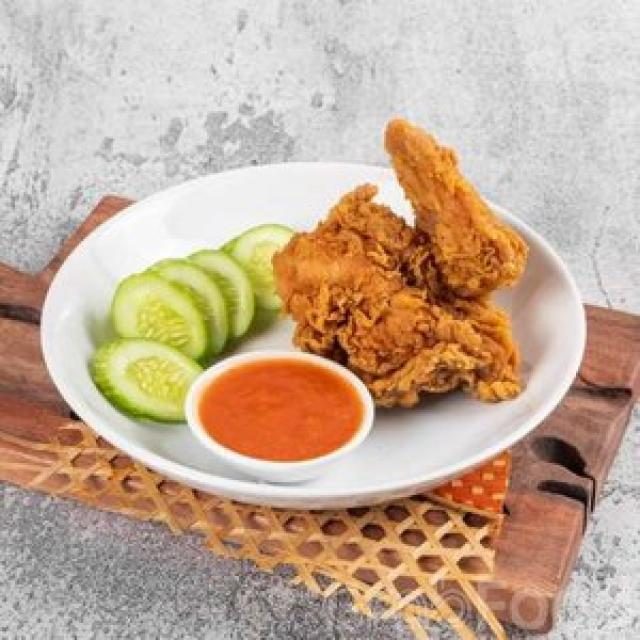Frango: (280, 124, 531, 407)
